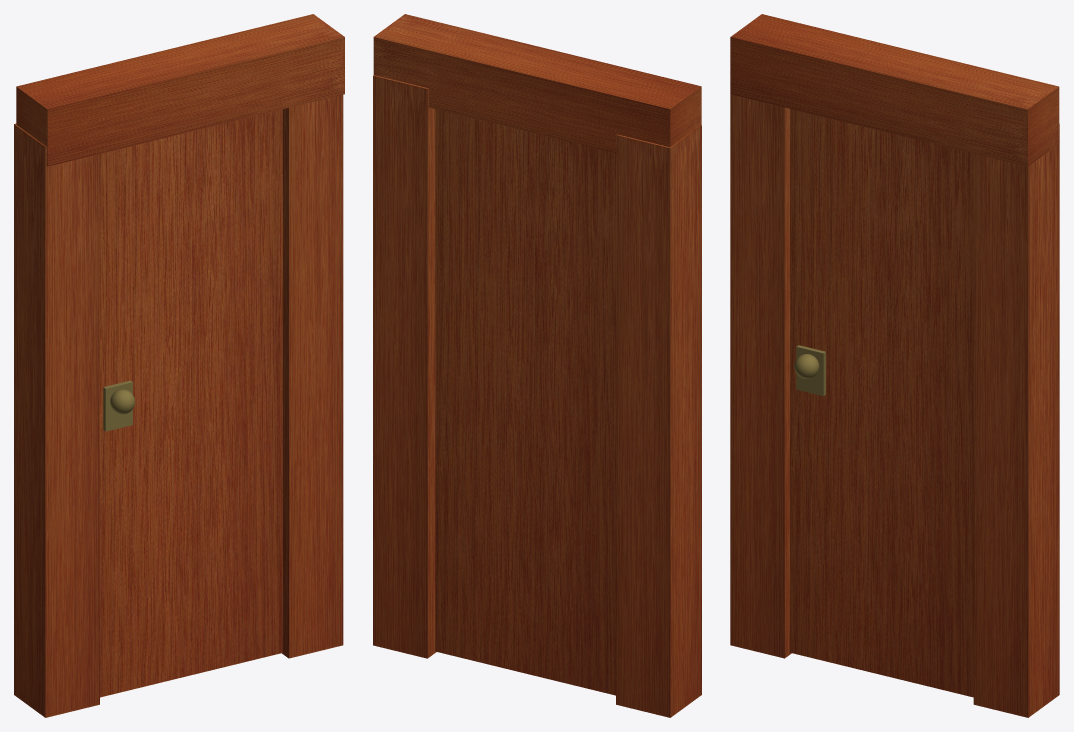
Rendered from door.fbx.
3 views of the same model, side by side, from view 1: azimuth 30°, elevation 25°; view 2: azimuth 150°, elevation 25°; view 3: azimuth 330°, elevation 25° (orthographic).
Parts seen in each view (by area): view 1: porta, Cubo, Cubo_1, Cubo_2, maniglia2; view 2: porta, Cubo, Cubo_1, Cubo_2; view 3: porta, Cubo_1, Cubo, Cubo_2, maniglia2.
Part boxes in pixels (left/top/right/bottom): porta: left=100, top=109, right=282, bottom=697; Cubo: left=14, top=123, right=99, bottom=717; Cubo_1: left=282, top=94, right=343, bottom=658; Cubo_2: left=16, top=14, right=344, bottom=166; maniglia2: left=103, top=380, right=132, bottom=431; porta: left=435, top=109, right=615, bottom=695; Cubo: left=616, top=125, right=701, bottom=717; Cubo_1: left=373, top=75, right=436, bottom=658; Cubo_2: left=373, top=14, right=701, bottom=152; porta: left=790, top=109, right=973, bottom=697; Cubo_1: left=973, top=124, right=1059, bottom=717; Cubo: left=730, top=94, right=791, bottom=658; Cubo_2: left=730, top=14, right=1059, bottom=166; maniglia2: left=796, top=345, right=825, bottom=396.
Size of the model in its own units: 109 by 213 by 24.2.
2 materials, 1 textured.
